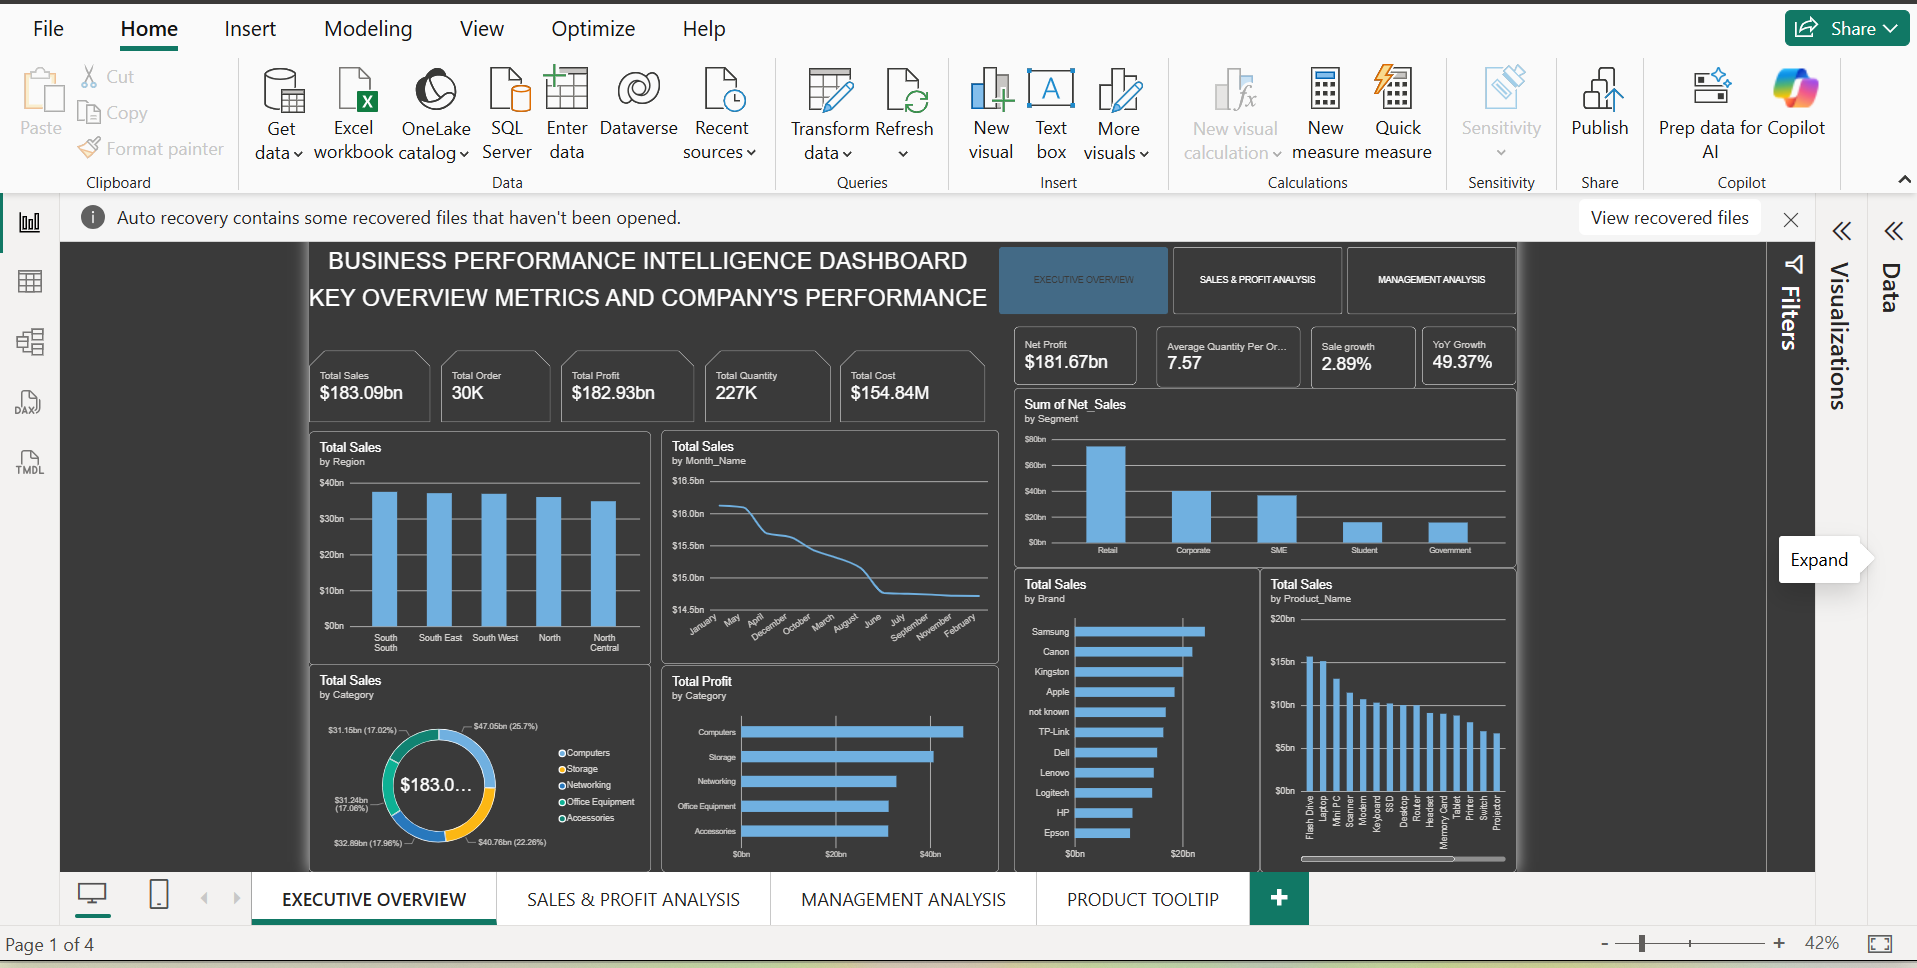

Layout of this report page (visuals, bound fields, positions):
{"tool":"powerbi","page":{"name":"EXECUTIVE OVERVIEW","canvas":[1920,1080],"ordinal":0},"visuals":[{"type":"cardVisual","fields":{"Data":["Dim_Customers.Total Sales"]},"box":[0,250.5,193.3,114.5],"z":0},{"type":"cardVisual","fields":{"Data":["Dim_Customers.Total Quantity"]},"box":[629.9,250.5,200.4,114.5],"z":1000},{"type":"cardVisual","fields":{"Data":["Dim_Customers.Total Cost"]},"box":[844.6,250.5,231.4,114.5],"z":2000},{"type":"cardVisual","fields":{"Data":["Dim_Customers.Total Profit"]},"box":[400.8,250.5,212.3,114.5],"z":3000},{"type":"clusteredColumnChart","fields":{"Category":["Dim_Customers.Region"],"Y":["Dim_Customers.Total Sales"]},"box":[0,379.4,544,372.2],"z":4000},{"type":"donutChart","fields":{"Category":["Dim_Products.Category"],"Y":["Dim_Customers.Total Sales"]},"box":[0,749.2,544,331.6],"z":5000},{"type":"lineChart","fields":{"Category":["Dim_Date.Month_Name"],"Y":["Dim_Customers.Total Sales"]},"box":[560.7,377,536.8,372.2],"z":6000},{"type":"clusteredBarChart","fields":{"Category":["Dim_Products.Category"],"Y":["Dim_Customers.Total Profit"]},"box":[560.7,751.6,536.8,329.3],"z":7000},{"type":"cardVisual","fields":{"Data":["Dim_Customers.Total Order"]},"box":[210,250.5,174.2,114.5],"z":8000},{"type":"cardVisual","fields":{"Data":["Dim_Customers.YoY Growth"]},"box":[1770.4,212.3,150.3,93.1],"z":9000},{"type":"cardVisual","fields":{"Data":["Dim_Customers.Sale growth"]},"box":[1593.8,212.3,167,100.2],"z":10000},{"type":"cardVisual","fields":{"Data":["Dim_Customers.Net Profit"]},"box":[1121.4,212.3,195.6,93.1],"z":11000},{"type":"cardVisual","fields":{"Data":["Dim_Customers.Average Quantity Per Order"]},"box":[1348,212.3,229,97.8],"z":12000},{"type":"clusteredBarChart","fields":{"Category":["Dim_Products.Brand"],"Y":["Dim_Customers.Total Sales"]},"box":[1121.4,596.5,391.3,484.3],"z":13000},{"type":"columnChart","fields":{"Category":["Dim_Customers.Segment"],"Y":["Sum(Fact_Sales.Net_Sales)"]},"box":[1121.4,310.2,799.3,286.3],"z":14000},{"type":"columnChart","fields":{"Category":["Dim_Products.Product_Name"],"Y":["Dim_Customers.Total Sales"]},"box":[1512.7,596.5,408,484.3],"z":15000},{"type":"pageNavigator","box":[1097.5,85.9,823.1,107.4],"z":16000},{"type":"actionButton","box":[1796.6,19.1,100,50],"z":17000},{"type":"textbox","box":[0,42.9,1097.5,188.5],"z":17001}]}

Visuals, with their boxes on the page's 1920x1080 design canvas (x1, y1, x2, y2). These are canvas units, not pixel positions in the 1917x968 screenshot, which may show the page scaled, cropped or inside an application window:
cardVisual - Dim_Customers.Total Sales: (left=0, top=250, right=193, bottom=365)
cardVisual - Dim_Customers.Total Quantity: (left=630, top=250, right=830, bottom=365)
cardVisual - Dim_Customers.Total Cost: (left=845, top=250, right=1076, bottom=365)
cardVisual - Dim_Customers.Total Profit: (left=401, top=250, right=613, bottom=365)
clusteredColumnChart - Dim_Customers.Region x Dim_Customers.Total Sales: (left=0, top=379, right=544, bottom=752)
donutChart - Dim_Products.Category x Dim_Customers.Total Sales: (left=0, top=749, right=544, bottom=1081)
lineChart - Dim_Date.Month_Name x Dim_Customers.Total Sales: (left=561, top=377, right=1098, bottom=749)
clusteredBarChart - Dim_Products.Category x Dim_Customers.Total Profit: (left=561, top=752, right=1098, bottom=1081)
cardVisual - Dim_Customers.Total Order: (left=210, top=250, right=384, bottom=365)
cardVisual - Dim_Customers.YoY Growth: (left=1770, top=212, right=1921, bottom=305)
cardVisual - Dim_Customers.Sale growth: (left=1594, top=212, right=1761, bottom=312)
cardVisual - Dim_Customers.Net Profit: (left=1121, top=212, right=1317, bottom=305)
cardVisual - Dim_Customers.Average Quantity Per Order: (left=1348, top=212, right=1577, bottom=310)
clusteredBarChart - Dim_Products.Brand x Dim_Customers.Total Sales: (left=1121, top=596, right=1513, bottom=1081)
columnChart - Dim_Customers.Segment x Sum(Fact_Sales.Net_Sales): (left=1121, top=310, right=1921, bottom=596)
columnChart - Dim_Products.Product_Name x Dim_Customers.Total Sales: (left=1513, top=596, right=1921, bottom=1081)
pageNavigator: (left=1098, top=86, right=1921, bottom=193)
actionButton: (left=1797, top=19, right=1897, bottom=69)
textbox: (left=0, top=43, right=1098, bottom=231)
